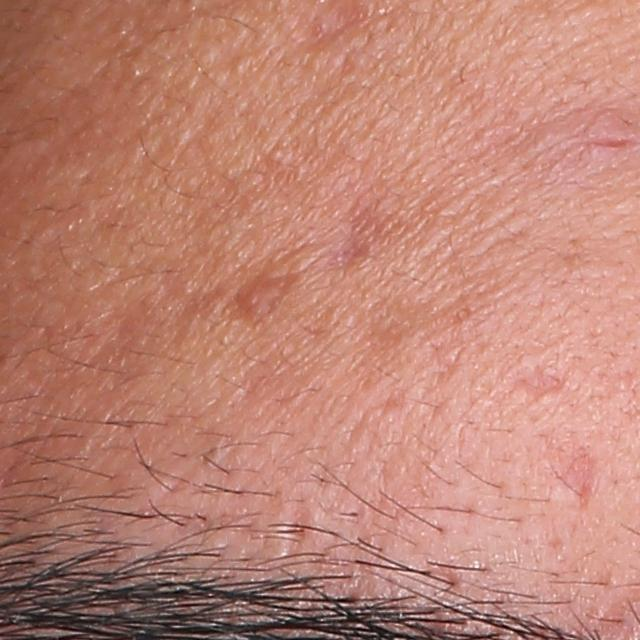atrophic_scar: (208, 245, 301, 330), (323, 199, 411, 285), (355, 284, 443, 349), (559, 444, 603, 512), (505, 367, 567, 410), (283, 494, 319, 557)
